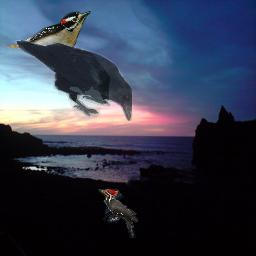Crow: (15, 40, 132, 121)
Woodpecker: (7, 9, 91, 57), (98, 189, 138, 238)
